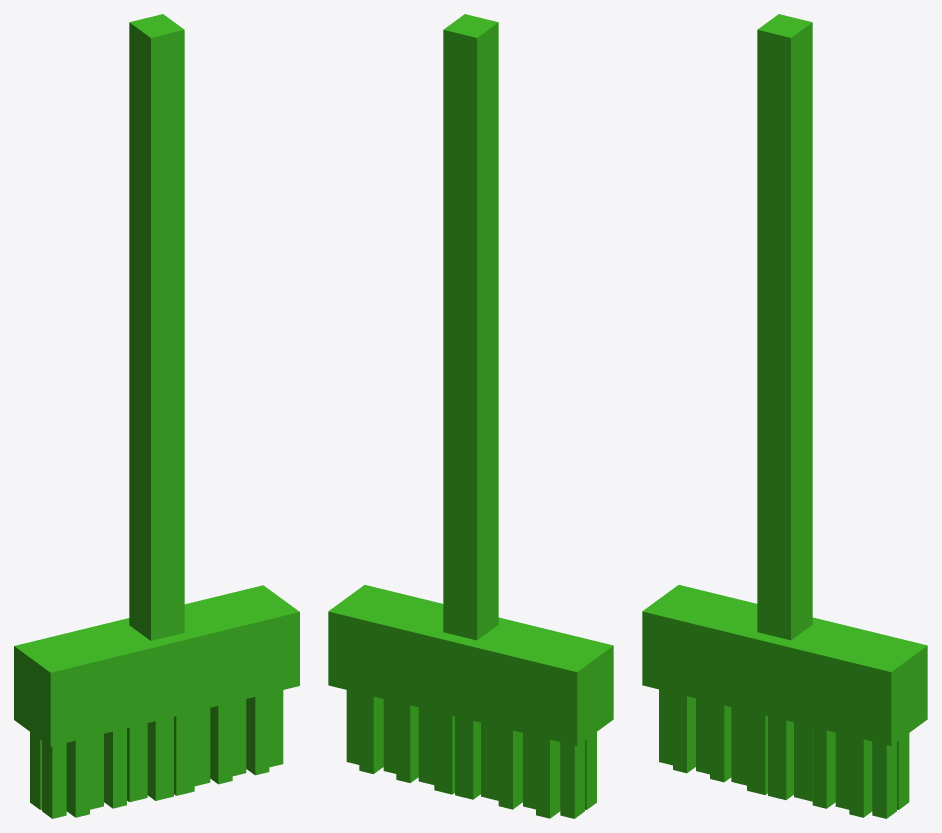
The model's file is sepru.FBX.
3 views of the same model, side by side, from view 1: azimuth 30°, elevation 25°; view 2: azimuth 150°, elevation 25°; view 3: azimuth 330°, elevation 25° (orthographic).
Visible parts, largest first — view 1: sepru; view 2: sepru; view 3: sepru.
Boxes of the visible parts, left/top/right/bottom form: sepru: left=14, top=14, right=299, bottom=818; sepru: left=328, top=14, right=613, bottom=818; sepru: left=642, top=14, right=927, bottom=818.
Bounding box in the file's own units: 108 × 315 × 27.54.
